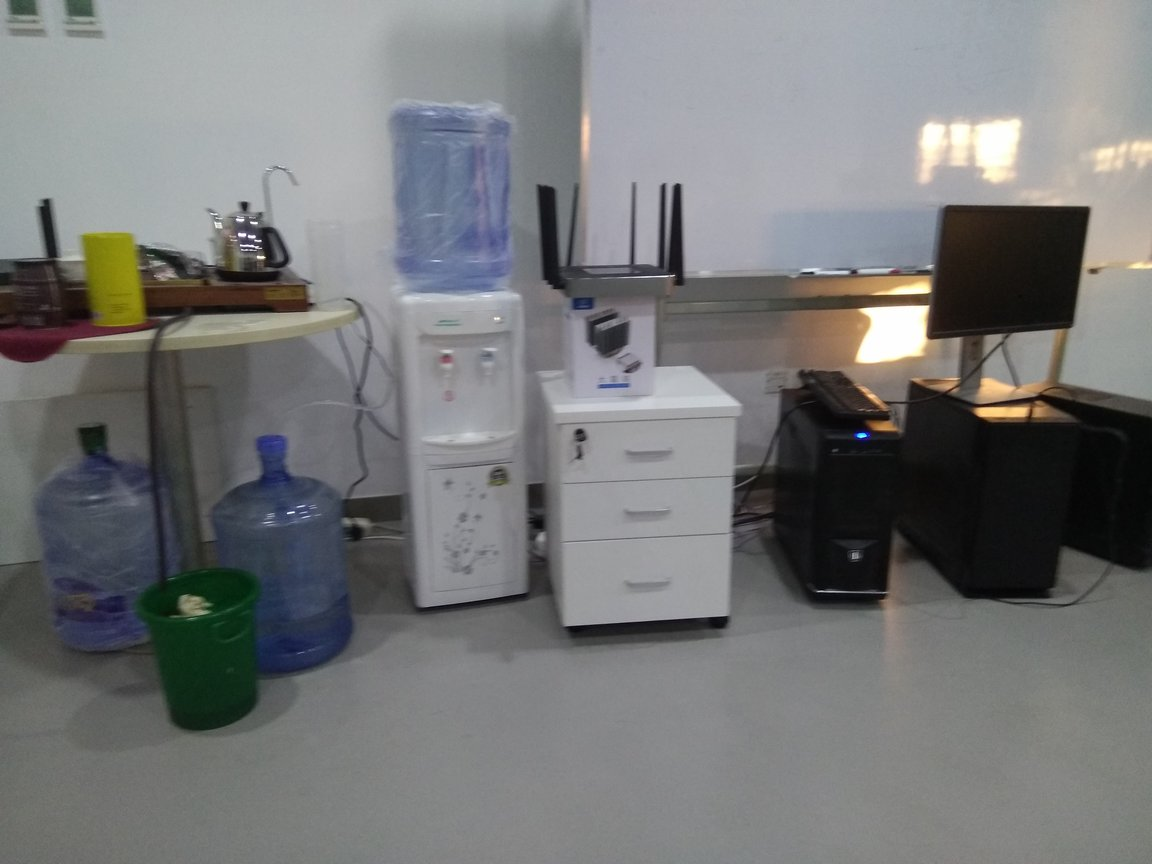computer: (908, 372, 1077, 610), (782, 384, 907, 612), (1012, 379, 1152, 570)
drawer chest: (531, 366, 751, 637)
monitor: (918, 199, 1093, 406)
scuttlebutt: (212, 433, 357, 673), (35, 419, 178, 661), (381, 101, 521, 291)
water dispenser: (395, 283, 531, 618)
